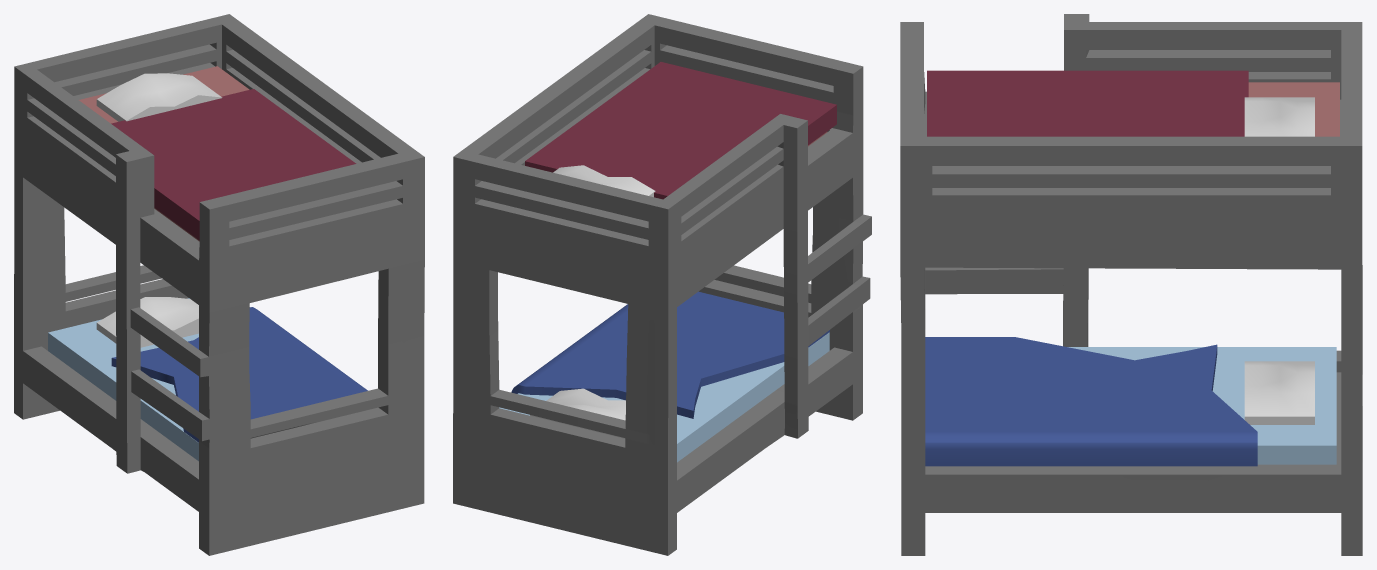
Rendered from bunk_bed.fbx.
The picture shows the model from 3 angles, left to right: view 1: azimuth 30°, elevation 25°; view 2: azimuth 150°, elevation 25°; view 3: azimuth 270°, elevation 25°; orthographic projection. The views are drawn at different scales.
Parts seen in each view (by area): view 1: bunk_fixing:bed_frame, blanket_2, blanket, mattress, pillow_2, pillow, mattress_2; view 2: bunk_fixing:bed_frame, blanket_2, blanket, mattress, pillow, pillow_2; view 3: bunk_fixing:bed_frame, blanket, blanket_2, mattress, pillow, pillow_2, mattress_2.
Part boxes in pixels (left/top/right/bottom): bunk_fixing:bed_frame: left=14, top=14, right=424, bottom=555; blanket_2: left=111, top=89, right=356, bottom=240; blanket: left=111, top=307, right=367, bottom=442; mattress: left=48, top=298, right=198, bottom=461; pillow_2: left=96, top=73, right=222, bottom=121; pillow: left=96, top=297, right=198, bottom=347; mattress_2: left=79, top=66, right=249, bottom=241; bunk_fixing:bed_frame: left=453, top=14, right=871, bottom=555; blanket_2: left=525, top=62, right=836, bottom=199; blanket: left=511, top=291, right=829, bottom=418; mattress: left=499, top=332, right=829, bottom=462; pillow: left=530, top=388, right=625, bottom=438; pillow_2: left=553, top=165, right=655, bottom=197; bunk_fixing:bed_frame: left=900, top=14, right=1362, bottom=555; blanket: left=925, top=337, right=1257, bottom=466; blanket_2: left=927, top=70, right=1248, bottom=136; mattress: left=1067, top=347, right=1336, bottom=464; pillow: left=1244, top=361, right=1314, bottom=424; pillow_2: left=1244, top=97, right=1314, bottom=136; mattress_2: left=1248, top=82, right=1339, bottom=136.
Size of the model in its own units: 1.3 by 1.88 by 1.92.
